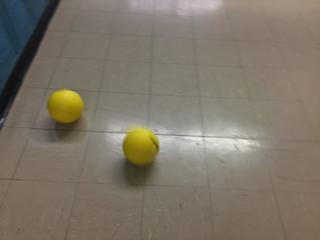power_cell: (119, 126, 160, 167), (49, 87, 85, 128)
